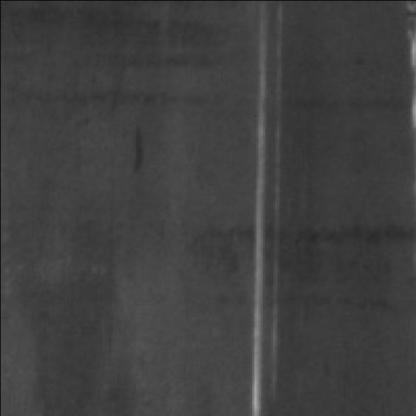scratches: (250, 10, 291, 416)
